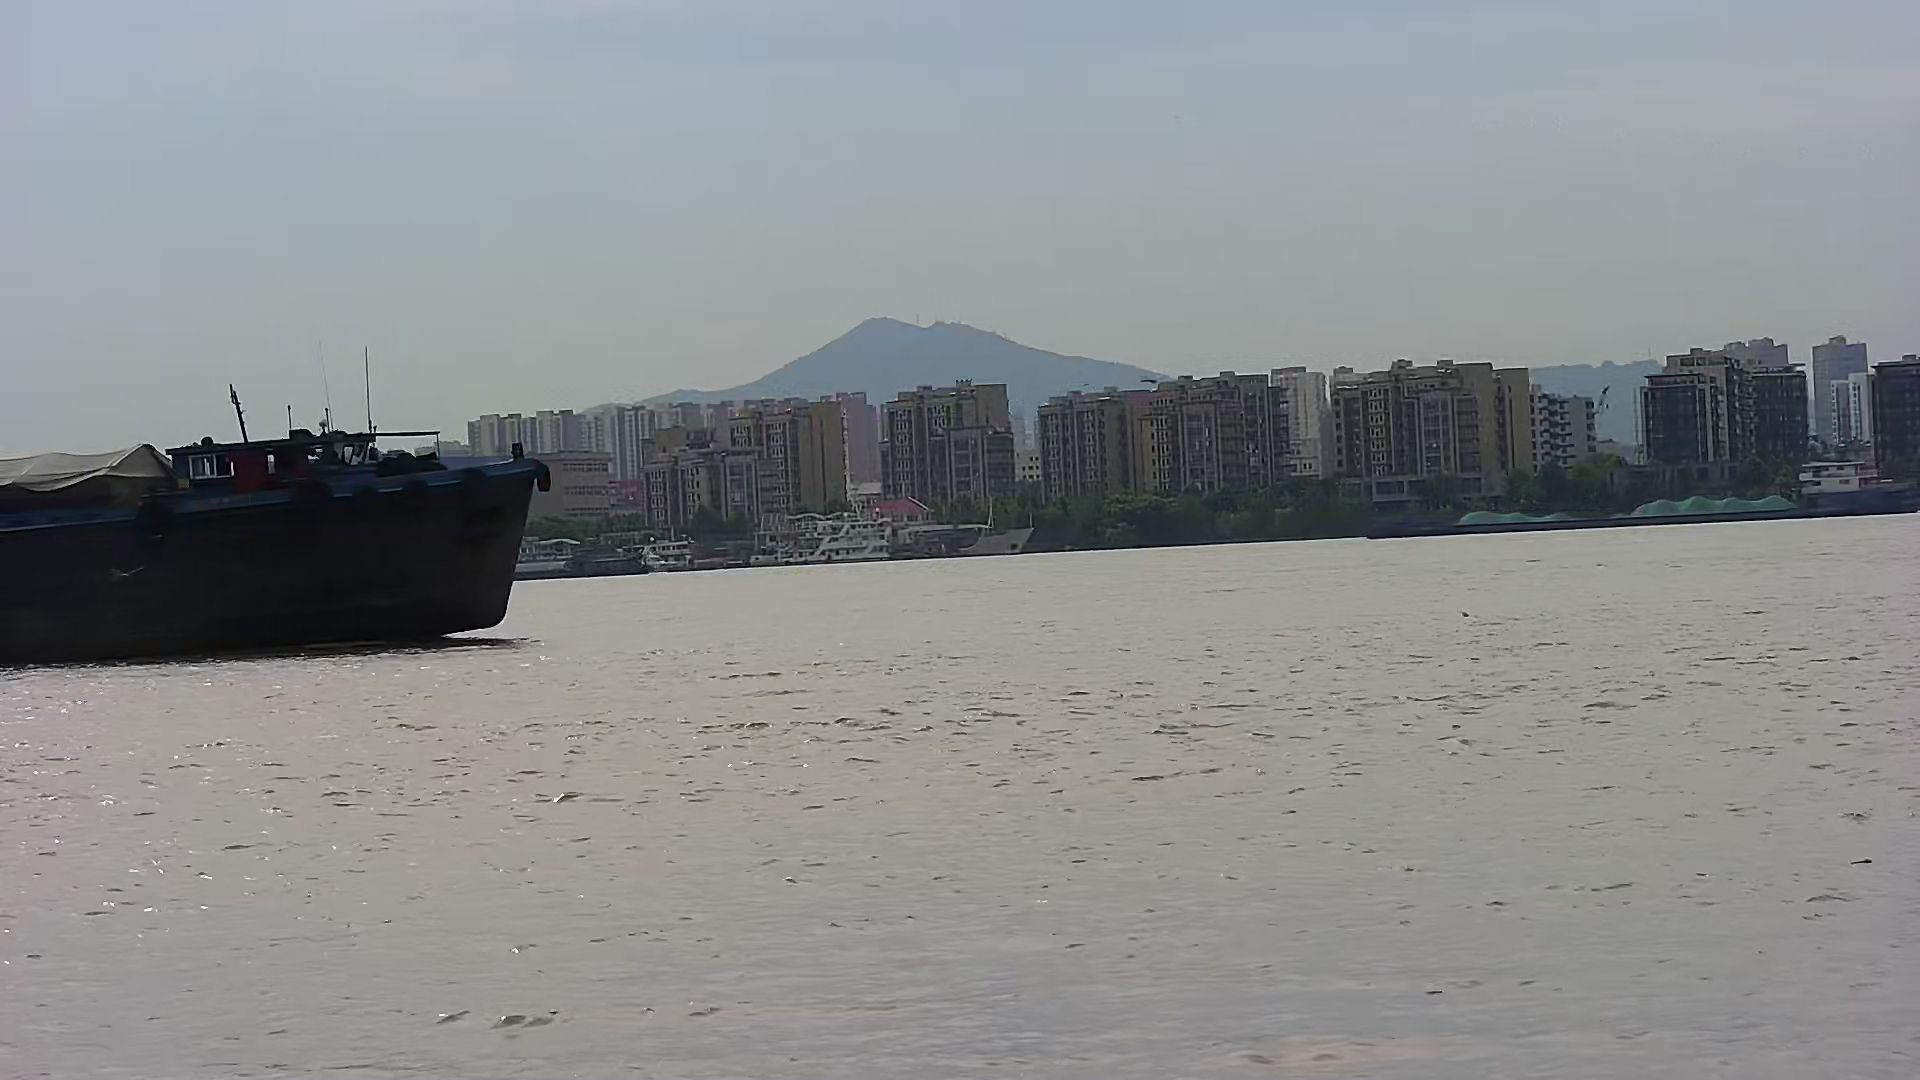ship: (1, 423, 537, 666), (1361, 462, 1920, 538)
